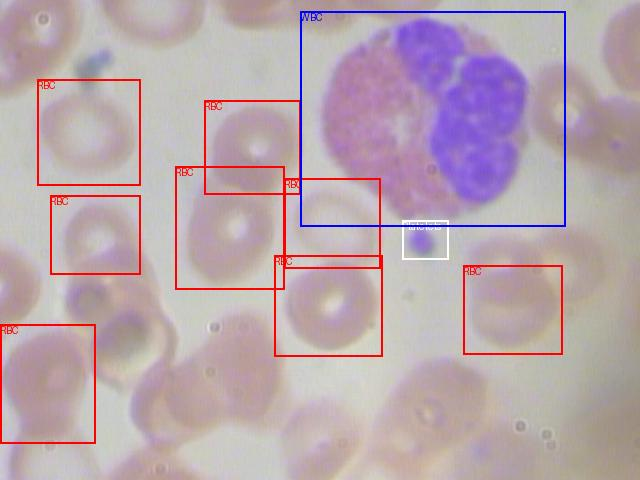Platelets: (402, 220, 448, 259)
RBC: (175, 166, 284, 289), (0, 324, 95, 443), (37, 79, 140, 185), (274, 255, 382, 356), (204, 100, 300, 194), (463, 265, 562, 354), (284, 178, 380, 268), (50, 195, 140, 274)
WBC: (300, 11, 565, 226)
